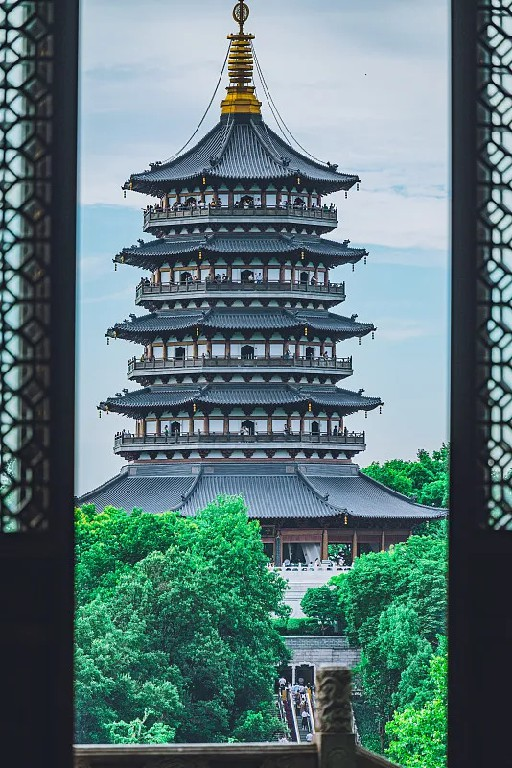Leifeng: (82, 1, 441, 568)
